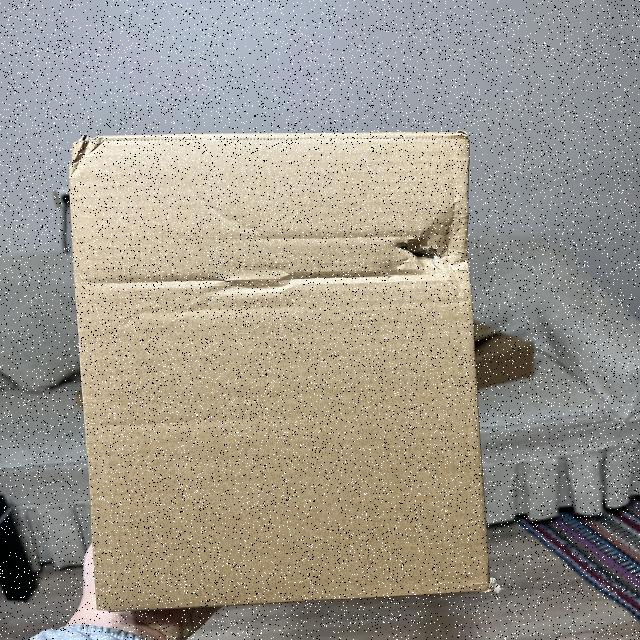damaged: (64, 132, 510, 613), (383, 190, 490, 294), (60, 122, 108, 183)
